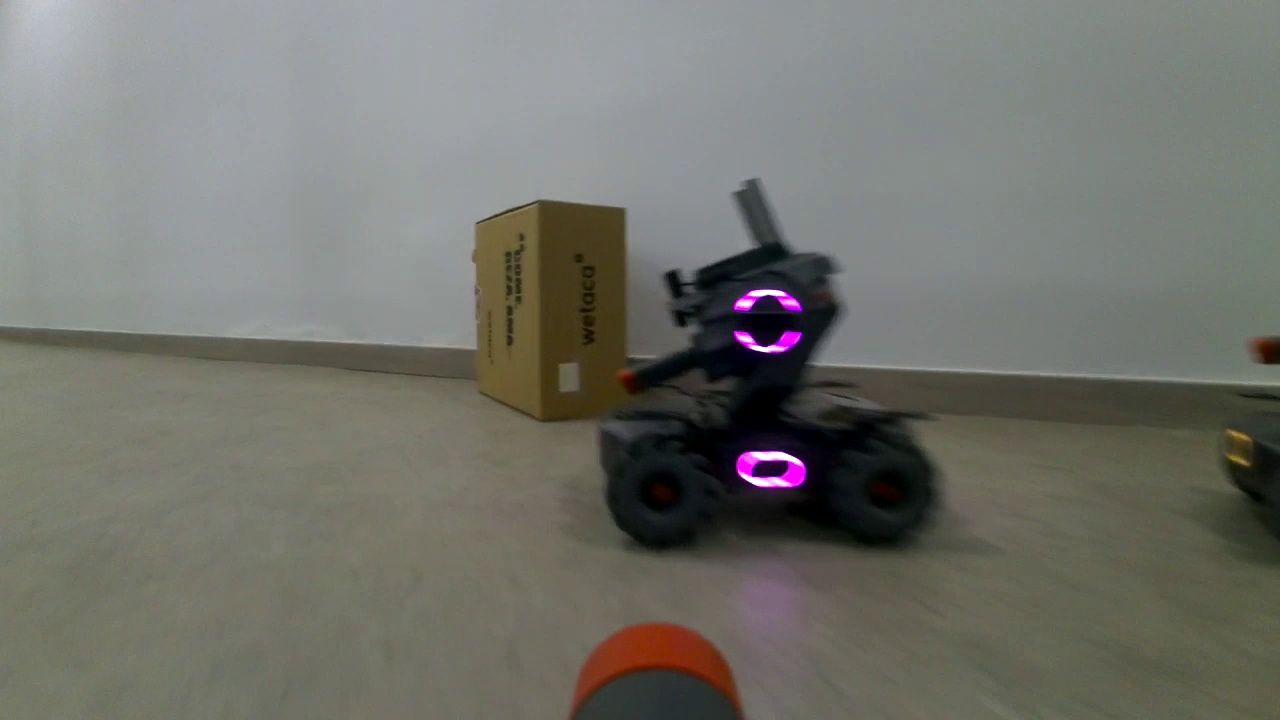robot: (601, 241, 936, 557)
